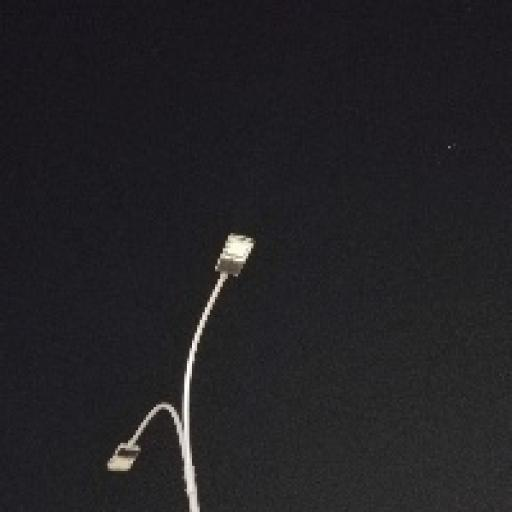Not Working: (204, 227, 261, 297), (94, 432, 154, 484)
